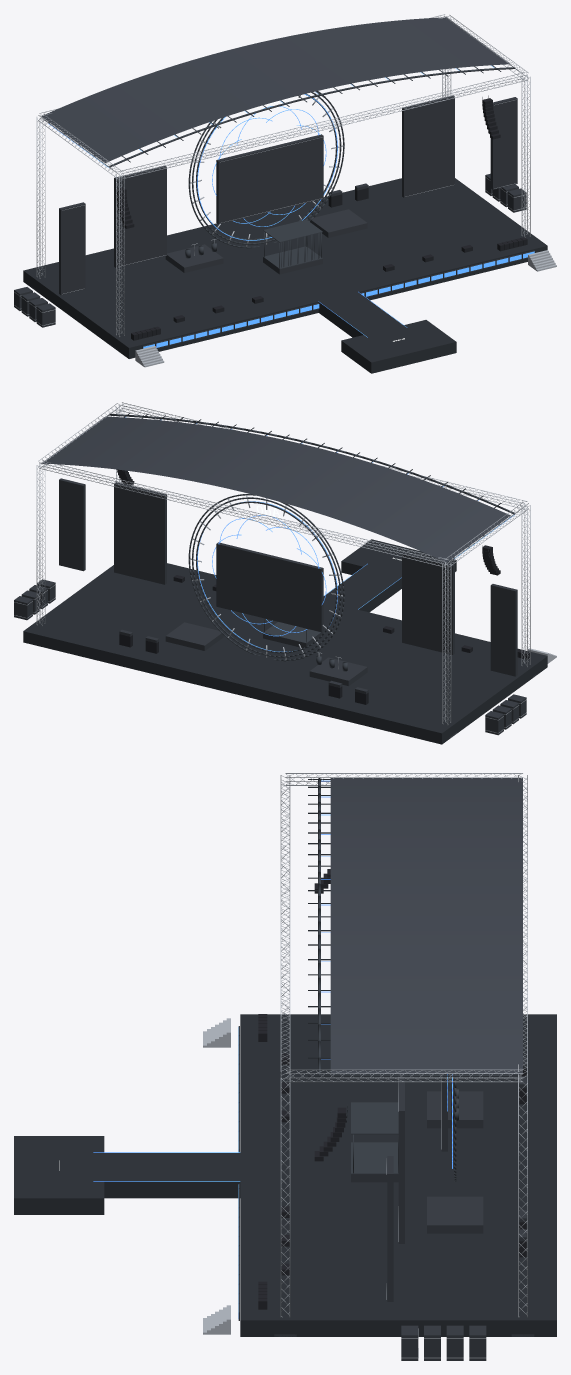
File: Production_StageCore.glb
3 views of the same model, one above another, from view 1: azimuth 30°, elevation 25°; view 2: azimuth 150°, elevation 25°; view 3: azimuth 270°, elevation 25° (orthographic). The views are drawn at different scales.
Parts seen in each view (by area): view 1: Production_StageCore_Prod_Deck, Production_StageCore_Prod_Charcoal, Production_StageCore_Prod_Canopy, Production_StageCore_Prod_Aluminium, Production_StageCore_Prod_BlackSteel, Production_StageCore_Prod_Accent, Production_StageCore_Prod_Speaker; view 2: Production_StageCore_Prod_Deck, Production_StageCore_Prod_Charcoal, Production_StageCore_Prod_Canopy, Production_StageCore_Prod_Aluminium, Production_StageCore_Prod_BlackSteel, Production_StageCore_Prod_Speaker, Production_StageCore_Prod_Accent; view 3: Production_StageCore_Prod_Deck, Production_StageCore_Prod_Canopy, Production_StageCore_Prod_Aluminium, Production_StageCore_Prod_Charcoal, Production_StageCore_Prod_BlackSteel, Production_StageCore_Prod_Speaker, Production_StageCore_Prod_Accent.
Part boxes in pixels (box(x1,y1,x2,y2)): Production_StageCore_Prod_Deck: box(23, 178, 547, 373); Production_StageCore_Prod_Charcoal: box(14, 95, 534, 348); Production_StageCore_Prod_Canopy: box(41, 17, 510, 162); Production_StageCore_Prod_Aluminium: box(14, 14, 556, 367); Production_StageCore_Prod_BlackSteel: box(30, 64, 517, 350); Production_StageCore_Prod_Accent: box(48, 65, 534, 348); Production_StageCore_Prod_Speaker: box(115, 98, 527, 340); Production_StageCore_Prod_Deck: box(23, 539, 547, 744); Production_StageCore_Prod_Charcoal: box(14, 478, 526, 735); Production_StageCore_Prod_Canopy: box(42, 416, 510, 562); Production_StageCore_Prod_Aluminium: box(14, 402, 556, 733); Production_StageCore_Prod_BlackSteel: box(107, 412, 536, 738); Production_StageCore_Prod_Speaker: box(117, 469, 529, 704); Production_StageCore_Prod_Accent: box(125, 417, 514, 651); Production_StageCore_Prod_Deck: box(14, 1014, 556, 1336); Production_StageCore_Prod_Canopy: box(330, 778, 522, 1074); Production_StageCore_Prod_Aluminium: box(203, 773, 527, 1358); Production_StageCore_Prod_Charcoal: box(238, 1026, 526, 1360); Production_StageCore_Prod_BlackSteel: box(274, 778, 534, 1336); Production_StageCore_Prod_Speaker: box(258, 869, 526, 1309); Production_StageCore_Prod_Accent: box(93, 780, 452, 1318).
Bounding box in the file's own units: 74.02 × 28.16 × 48.
